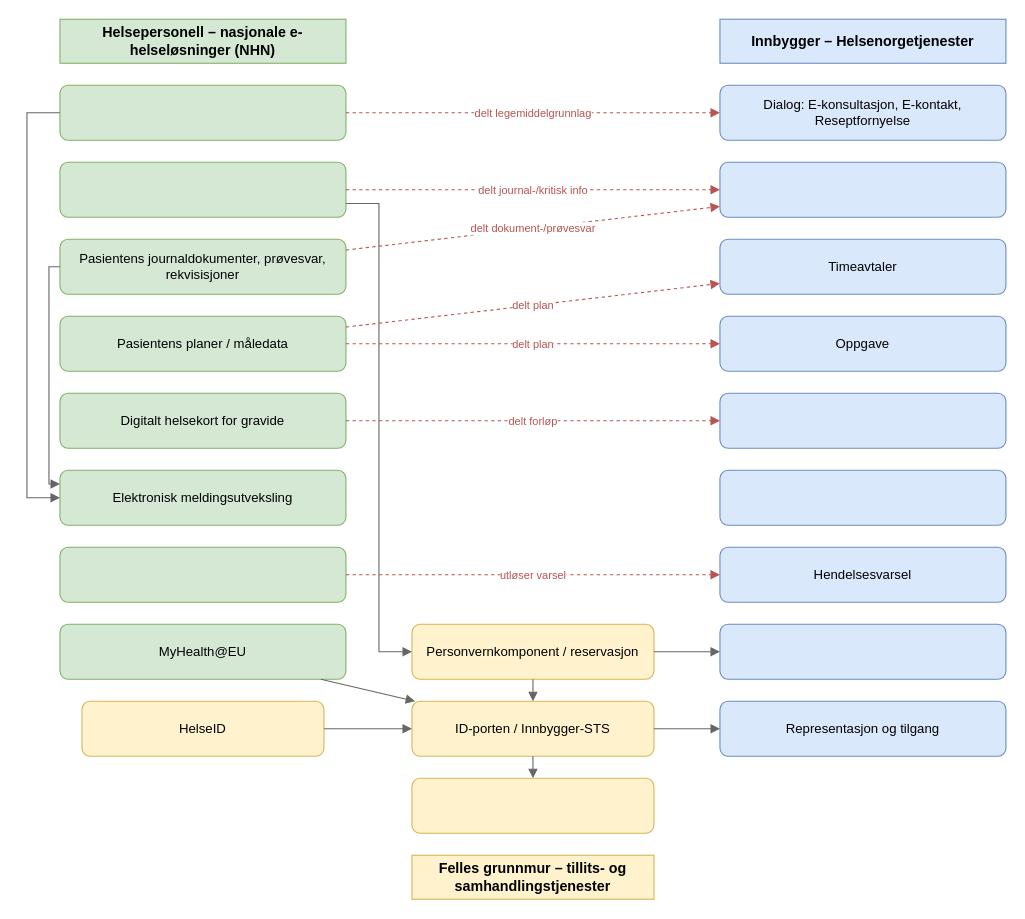
Image size: 1025x919. Some labels were removed from this diagram. Each missing label, with the box of its shape:
E-resept / Sentral forskrivningsmodul: (59, 84, 346, 140)
Helsekontakter: (719, 392, 1006, 448)
Helsenettforbindelse: (411, 777, 654, 833)
Journalinnsyn: (719, 161, 1006, 217)
Kjernejournal portal / Kritisk informasjon: (59, 161, 346, 217)
Melde / Fødselsmeldingssystemet: (59, 546, 346, 602)
Personverninnstillinger: (719, 623, 1006, 679)
Verktøy: (719, 469, 1006, 525)
